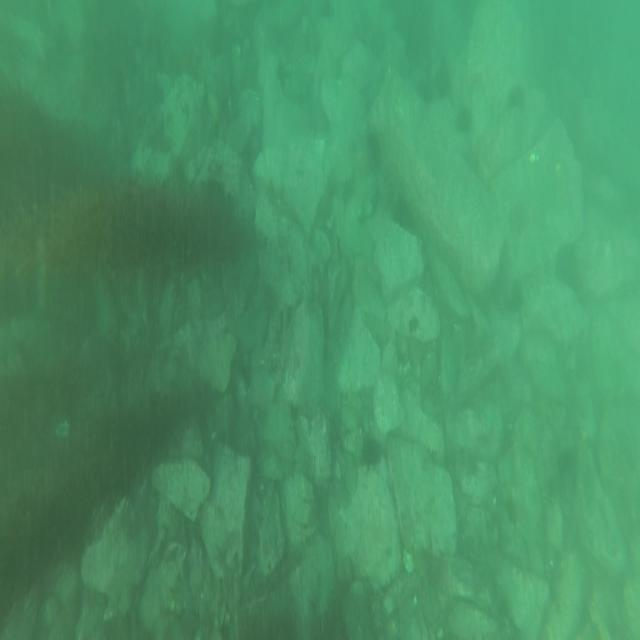echinus: (553, 237, 579, 287), (358, 433, 383, 463), (453, 103, 470, 137), (430, 59, 448, 91), (504, 84, 523, 114)
